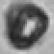correct: (4, 2, 50, 51)
